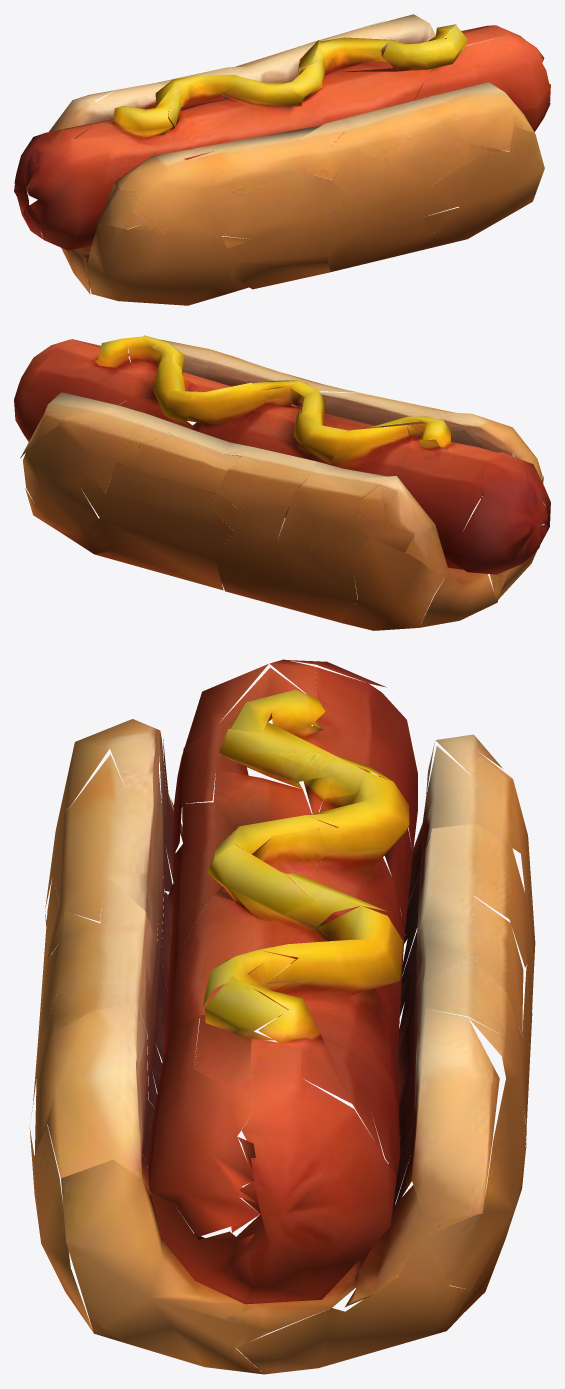
Rendered from hotdog.glb.
3 views of the same model, one above another, from view 1: azimuth 30°, elevation 25°; view 2: azimuth 150°, elevation 25°; view 3: azimuth 270°, elevation 25° (orthographic). The views are drawn at different scales.
Visible parts, largest first — view 1: item; view 2: item; view 3: item.
Part boxes in pixels (x1,y1,x2,y2): item: (14, 14, 550, 305); item: (14, 335, 550, 630); item: (29, 659, 535, 1374).
Size of the model in its own units: 0.1802 by 0.0641 by 0.0769.
Materials: 1 (1 with a texture image).
